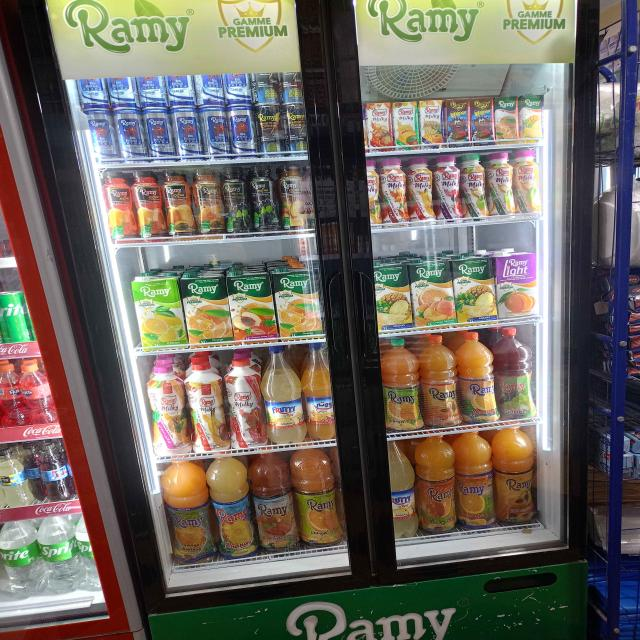fanta_plastique: (0, 366, 20, 428), (22, 364, 41, 428)
ramy_canette: (171, 107, 204, 156), (142, 110, 174, 157), (85, 110, 114, 159), (228, 106, 258, 153), (259, 104, 285, 152), (202, 106, 228, 152), (119, 109, 142, 160), (286, 105, 306, 148)
ramy_carton: (179, 266, 230, 346), (131, 274, 186, 347), (225, 266, 276, 340), (492, 248, 538, 320), (281, 264, 322, 336), (374, 256, 413, 330), (420, 252, 458, 327), (456, 258, 494, 325), (518, 94, 544, 143), (492, 98, 520, 143), (365, 104, 395, 144), (393, 103, 419, 147), (470, 100, 495, 144), (447, 99, 470, 142), (420, 101, 443, 142)
ramy_plastique: (162, 463, 215, 562), (292, 453, 344, 545), (211, 460, 255, 560), (252, 460, 298, 552), (186, 367, 232, 453), (494, 431, 534, 527), (265, 348, 305, 444), (147, 367, 190, 454), (456, 433, 494, 531), (384, 338, 421, 434), (226, 361, 266, 448), (419, 438, 455, 533), (457, 336, 493, 424), (422, 338, 456, 430), (498, 330, 532, 420), (305, 345, 335, 439), (102, 172, 136, 238), (390, 441, 412, 542), (133, 173, 166, 240), (164, 170, 196, 235), (196, 170, 226, 234), (252, 169, 281, 233), (223, 169, 251, 235), (280, 168, 308, 234), (435, 156, 462, 220), (490, 152, 515, 216), (383, 160, 406, 226), (461, 154, 484, 219), (517, 150, 539, 214), (411, 158, 432, 221), (366, 159, 380, 224)
sprite_canette: (0, 290, 24, 346)
sprite_plastique: (0, 524, 39, 598), (41, 515, 76, 593)
